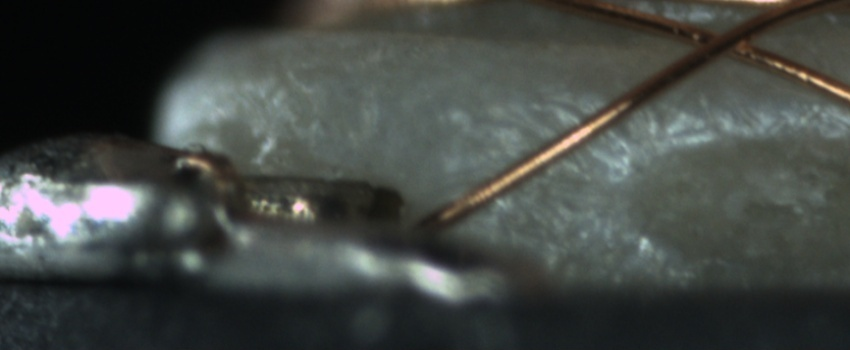CL: (680, 13, 776, 69)
DL: (424, 92, 843, 156)
TE: (174, 140, 241, 182)
